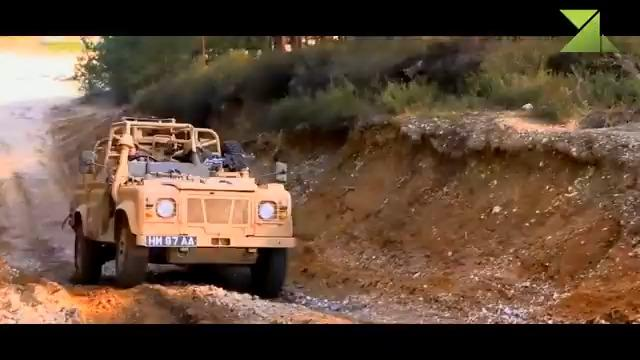MIL_HMMWV: (69, 117, 297, 300)
